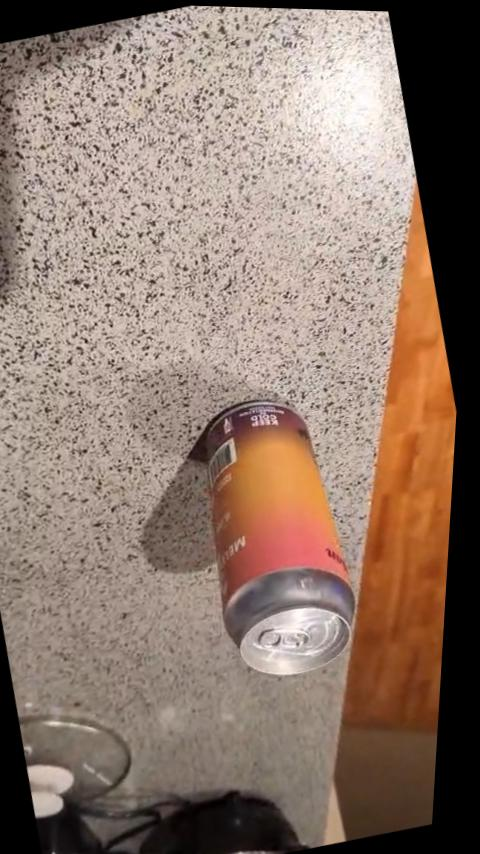metal: (191, 401, 354, 675)
